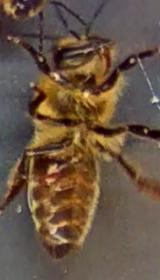varroa_mite: (34, 156, 64, 192)
